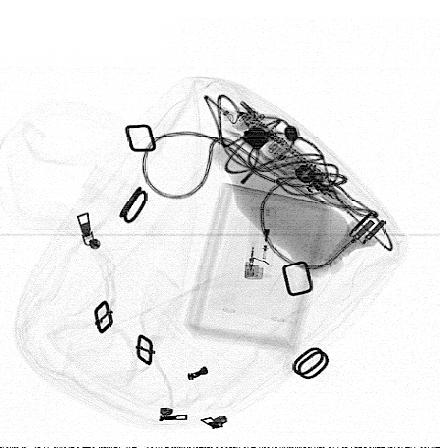Lighter: (243, 207, 276, 281)
